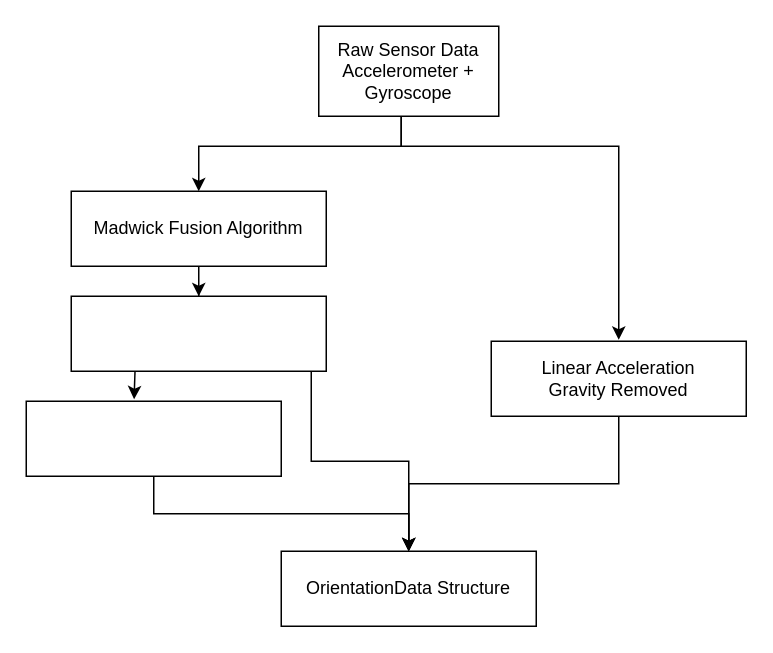
This 773x653 diagram has some shape labels left out. Each missing label, with the centre of its shape:
Euler Angles: [153,438]
Quaternion Representation: [198,333]
